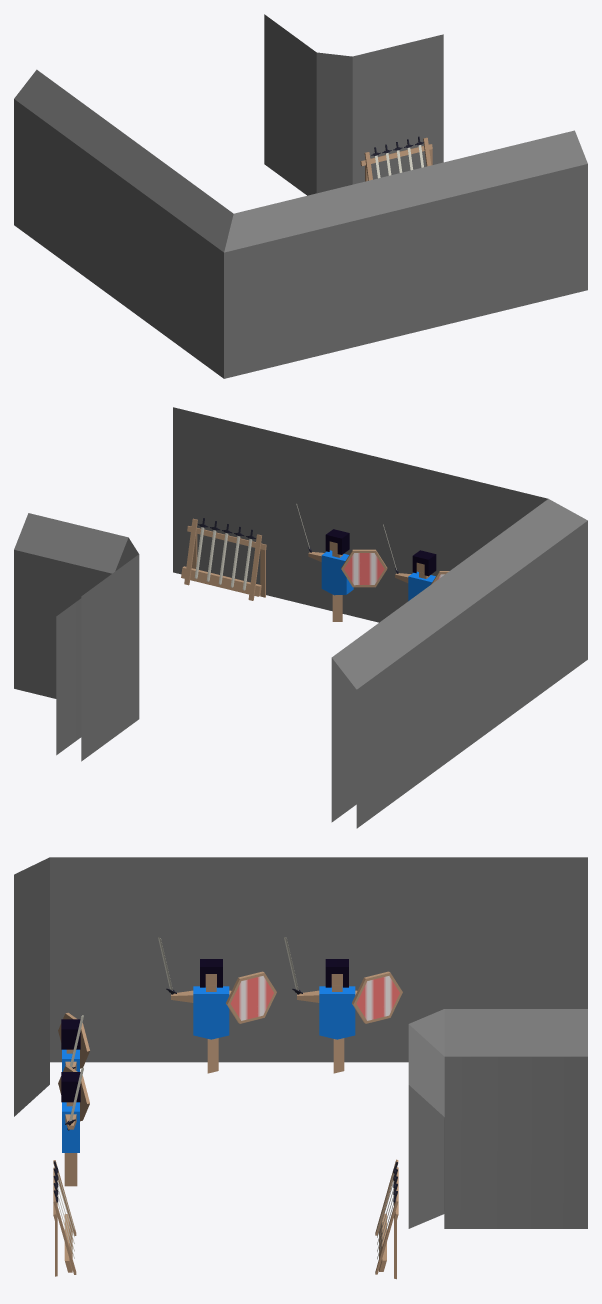
The model's file is Armoury Corner.fbx.
3 views of the same model, one above another, from view 1: azimuth 30°, elevation 25°; view 2: azimuth 150°, elevation 25°; view 3: azimuth 270°, elevation 25° (orthographic). The views are drawn at different scales.
Parts seen in each view (by area): view 1: Amory Corner; view 2: Amory Corner; view 3: Amory Corner.
Boxes of the visible parts, left/top/right/bottom form: Amory Corner: left=14, top=14, right=587, bottom=378; Amory Corner: left=14, top=407, right=587, bottom=828; Amory Corner: left=14, top=857, right=587, bottom=1279.
Bounding box in the file's own units: 0.8 × 0.3159 × 0.8.
